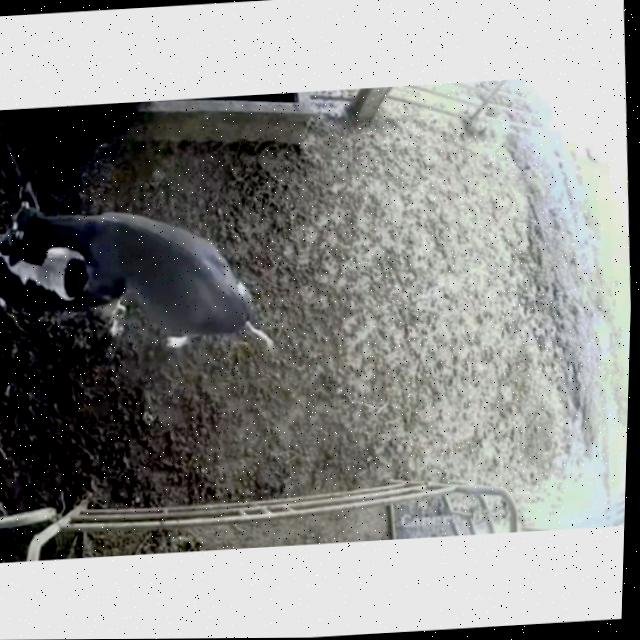ride: (0, 158, 287, 383)
